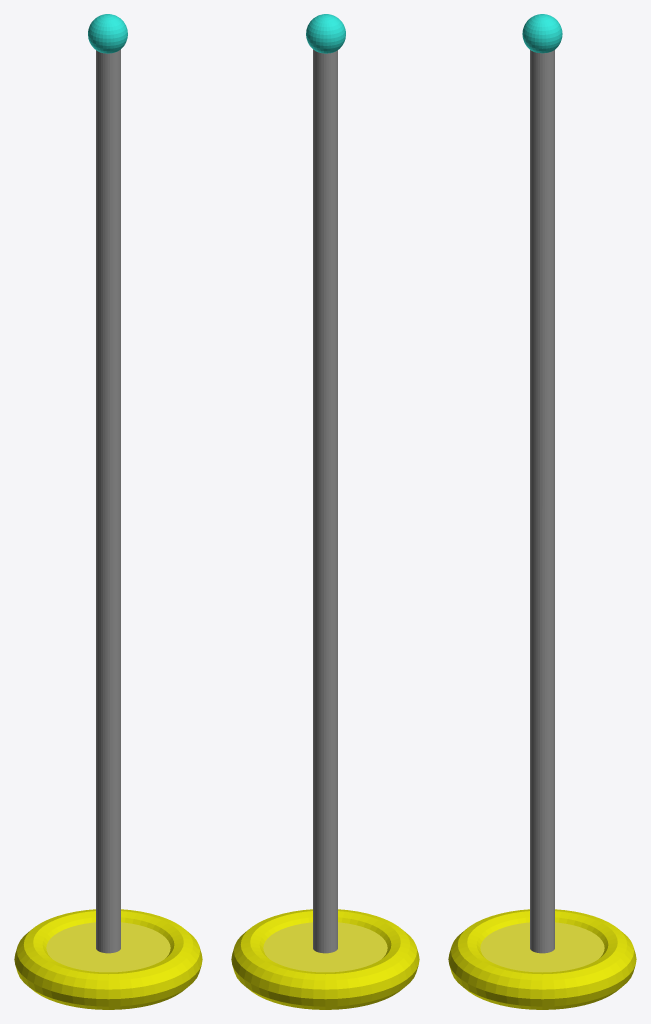
The model's file is Stage3FlagPL.fbx.
The picture shows the model from 3 angles, left to right: view 1: azimuth 30°, elevation 25°; view 2: azimuth 150°, elevation 25°; view 3: azimuth 270°, elevation 25°; orthographic projection.
Parts seen in each view (by area): view 1: Cylinder, Torus, Cylinder.001, Sphere; view 2: Cylinder, Torus, Cylinder.001, Sphere; view 3: Cylinder, Torus, Cylinder.001, Sphere.
Part boxes in pixels (x1=…): Cylinder: x1=96, y1=49, x2=120, y2=953; Torus: x1=14, y1=909, x2=202, y2=1009; Cylinder.001: x1=46, y1=922, x2=170, y2=972; Sphere: x1=88, y1=14, x2=127, y2=53; Cylinder: x1=313, y1=49, x2=337, y2=953; Torus: x1=231, y1=909, x2=419, y2=1009; Cylinder.001: x1=263, y1=922, x2=387, y2=972; Sphere: x1=306, y1=14, x2=345, y2=53; Cylinder: x1=530, y1=50, x2=554, y2=953; Torus: x1=448, y1=909, x2=636, y2=1009; Cylinder.001: x1=480, y1=922, x2=604, y2=972; Sphere: x1=522, y1=14, x2=562, y2=53.
Size of the model in its own units: 75 by 422 by 75.
